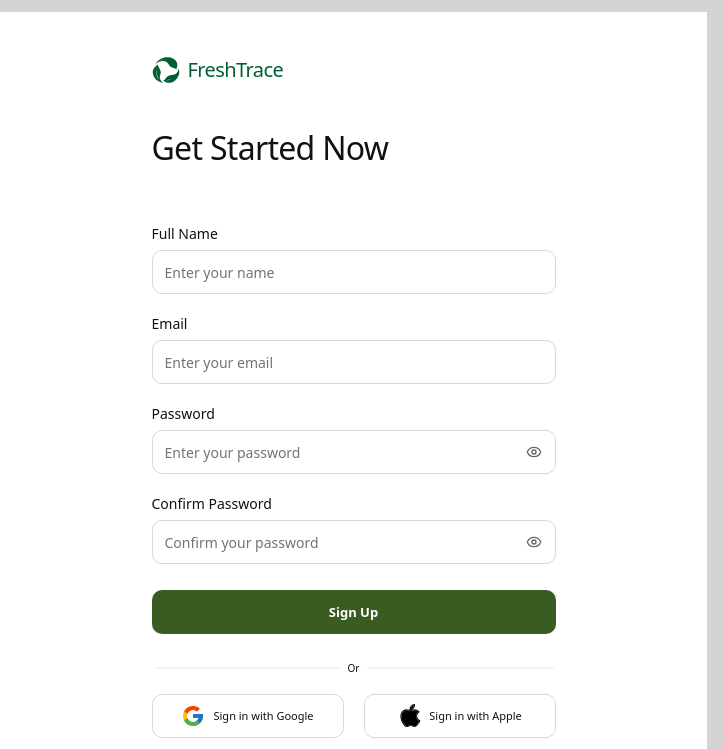
Test: signup confirmation and login › shows validation errors without sending a request
Submit the form named "Create an account", box [152,224,556,634]
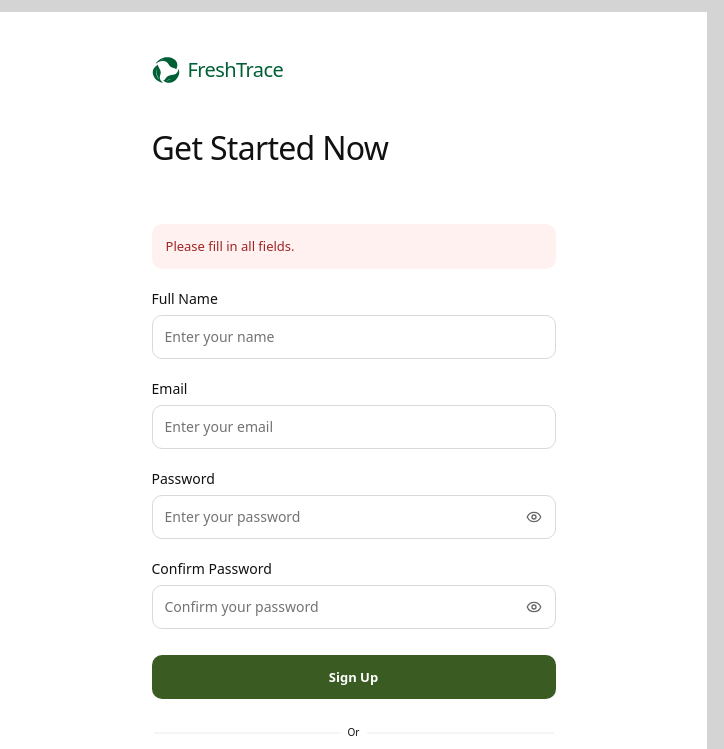
Expected: the message reads "Please fill in all fields.", [166,237,295,255]
Type "Test User" into the field labelled "Full Name" at (354, 337), box [152,315,556,359]
Type "test@example.com" into the field labelled "Email" at (354, 427), box [152,405,556,449]
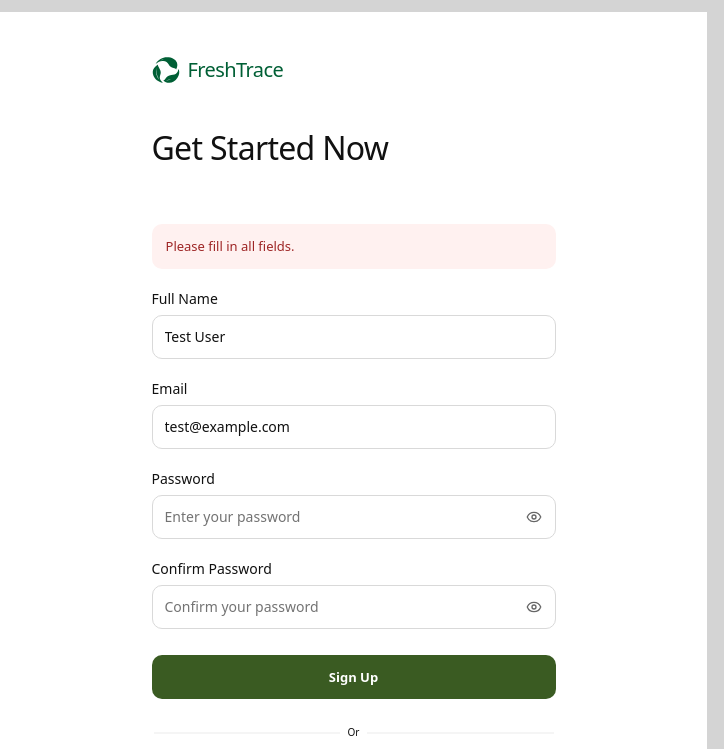
Type "fake-password" into the password field labelled "Password" at (354, 517), box [152,495,556,539]
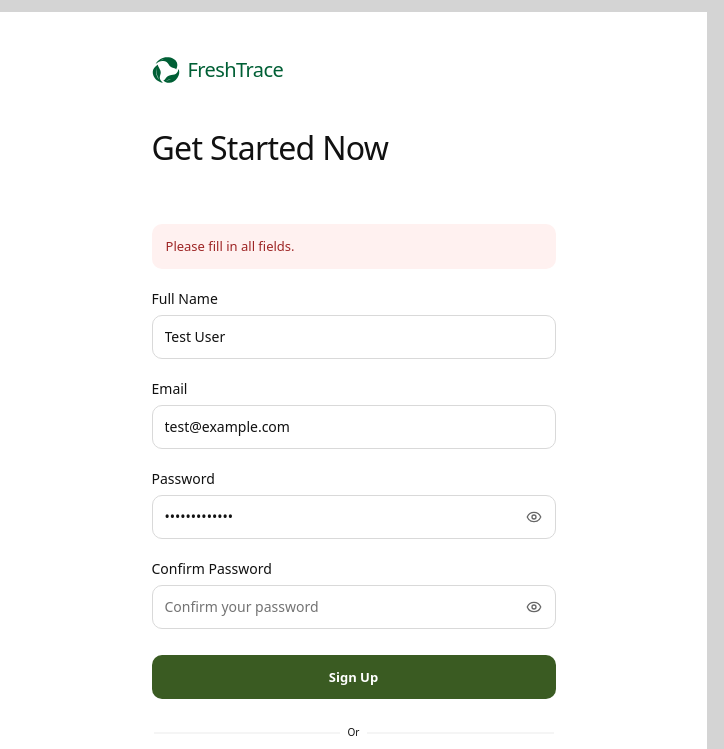
Type "fake-password" into the password field labelled "Confirm Password" at (354, 607), box [152,585,556,629]
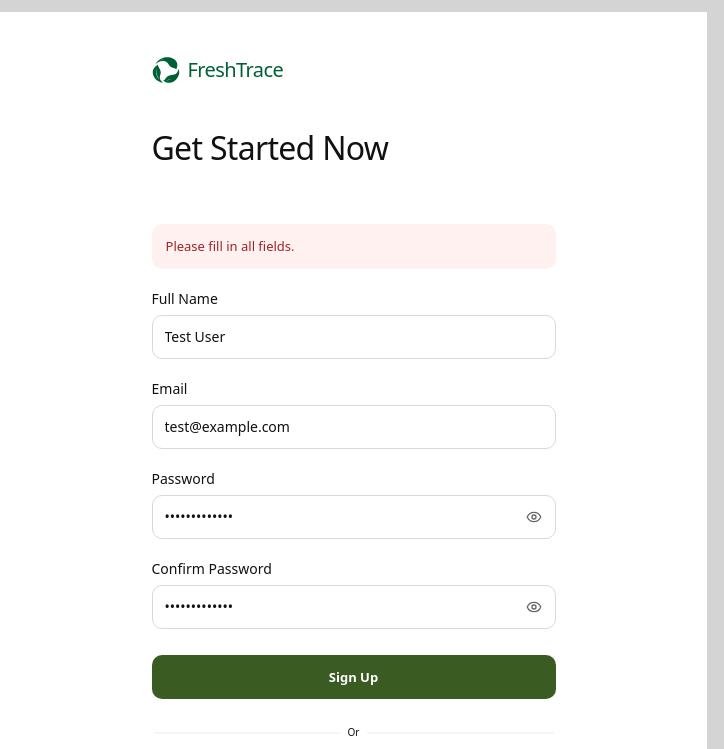
Type "mismatch" into the password field labelled "Confirm Password" at (354, 607), box [152,585,556,629]
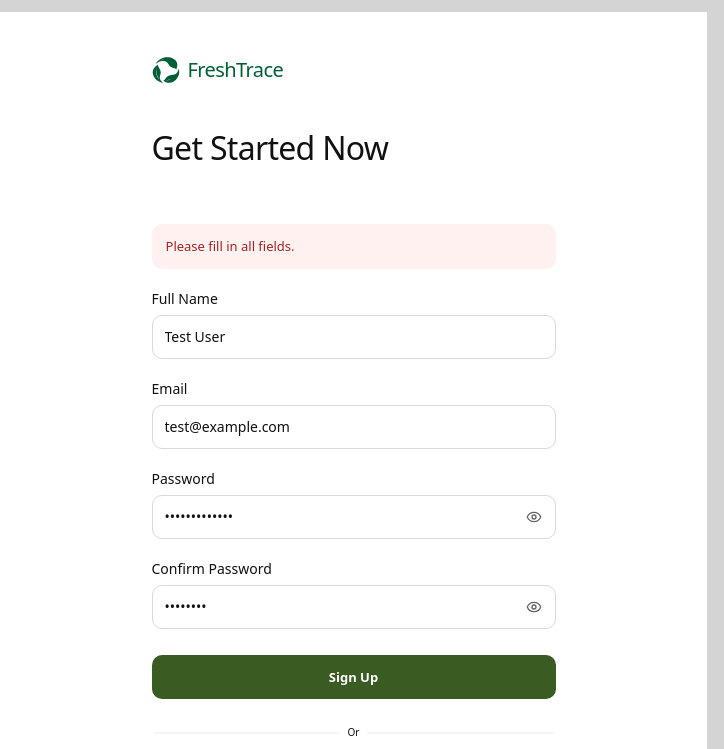
Submit the form named "Create an account", box [152,224,556,699]
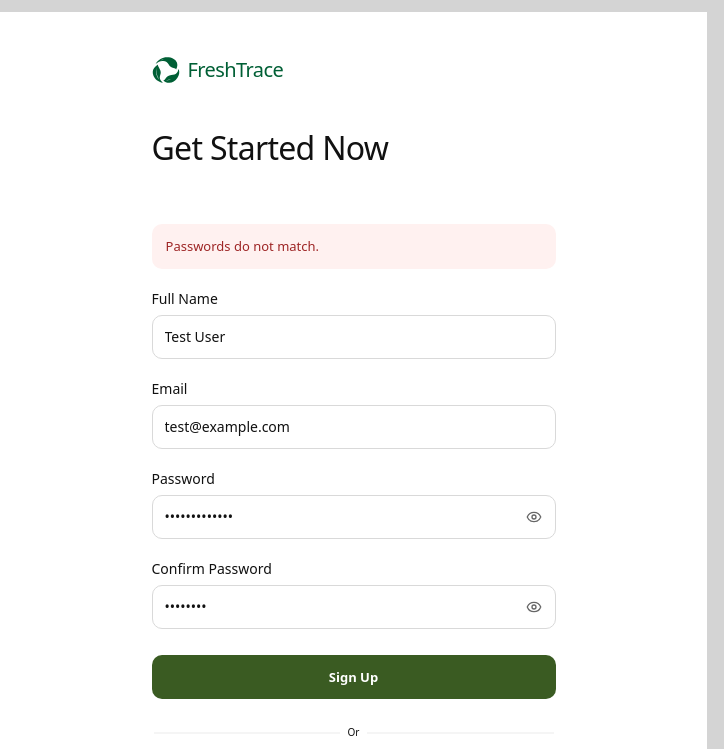
Expected: the message reads "Passwords do not match.", [166,237,319,255]
